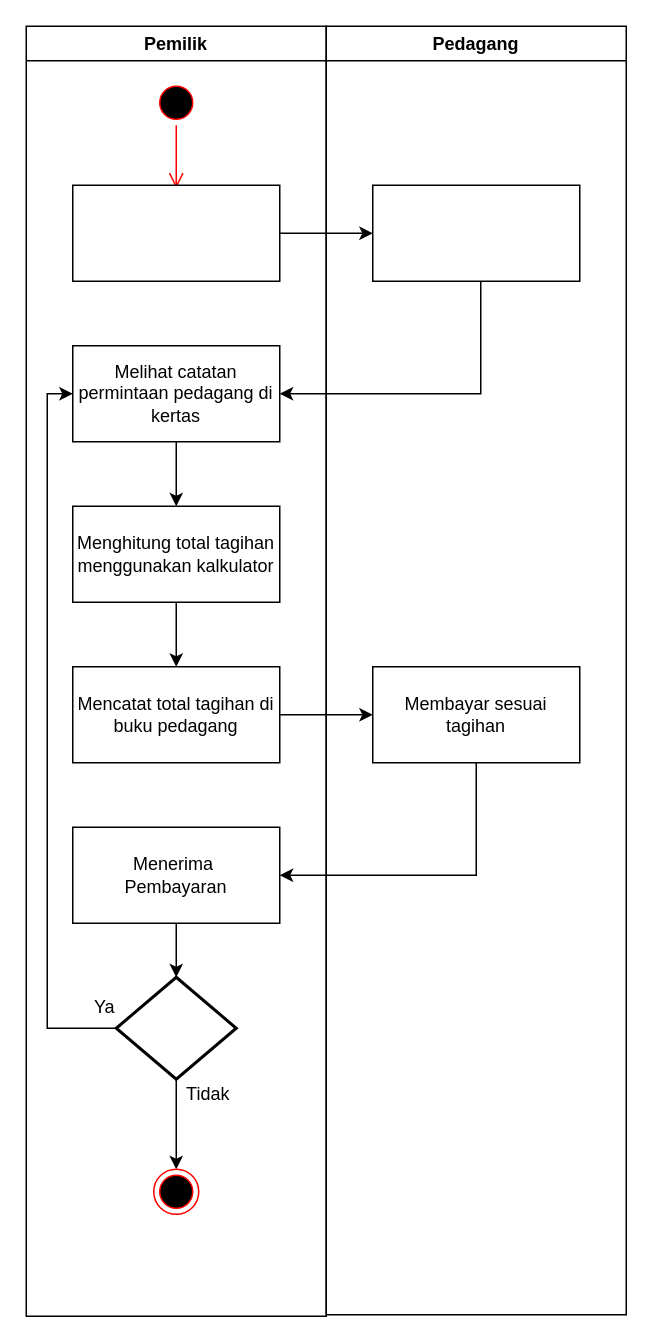
The diagram is 653 pixels wide and 1343 high, and some of its shapes have lost their labels. Here are the shapes that lost their labels. From the top down, the centre of each, then its label:
At point (175, 232): "Mengambil kertas permintaan dan buku masing-masing pedagang".
At point (475, 232): "Datang Untuk Melakukan Setoran".
At point (175, 1027): "Masih ada setoran?".
